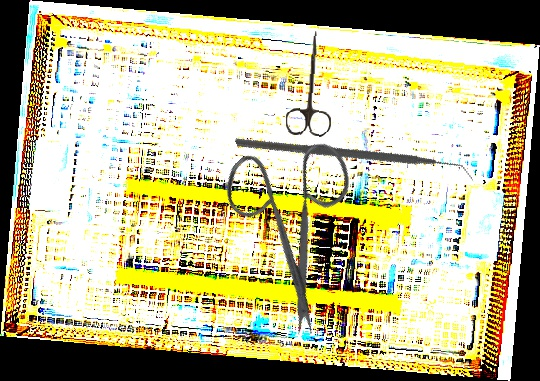Chopper: (234, 53, 475, 270)
Iris Scissors: (180, 106, 418, 344), (285, 29, 336, 138)
